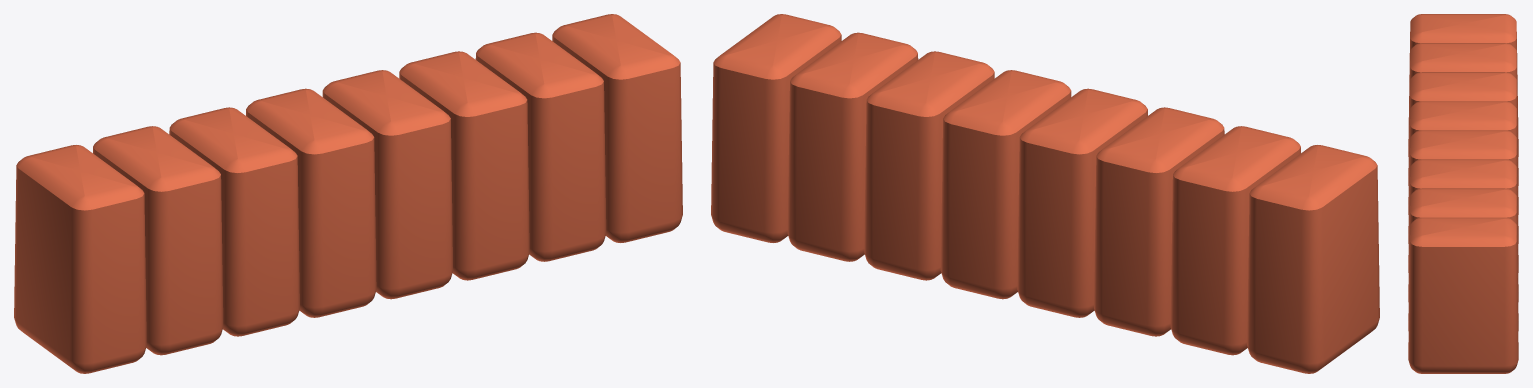
File: motorcycle-racing-and-street-bikes-air-fence-module-7e66f67f__15446.glb
3 views of the same model, side by side, from view 1: azimuth 30°, elevation 25°; view 2: azimuth 150°, elevation 25°; view 3: azimuth 270°, elevation 25° (orthographic). The views are drawn at different scales.
Visible parts, largest first — view 1: air-fence-module; view 2: air-fence-module; view 3: air-fence-module.
Boxes of the visible parts, box(x1,y1,x2,y2) form: air-fence-module: box(14, 14, 682, 373); air-fence-module: box(711, 14, 1379, 373); air-fence-module: box(1408, 14, 1518, 373).
Size of the model in its own units: 3.99 by 1.1 by 0.7998.
